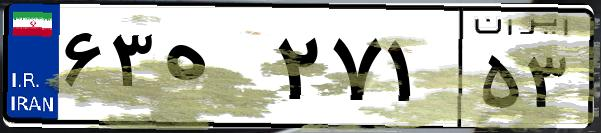1: (385, 28, 445, 110)
2: (270, 28, 330, 110)
3: (525, 38, 570, 115), (110, 28, 158, 98)
5: (475, 38, 525, 113)
6: (57, 26, 110, 100)
7: (330, 28, 385, 110)
ه: (158, 20, 270, 120)
